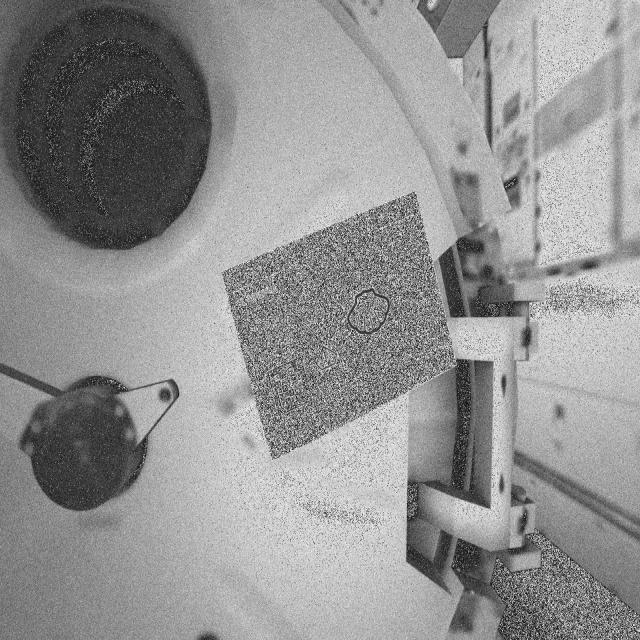shell: (333, 281, 407, 345)
